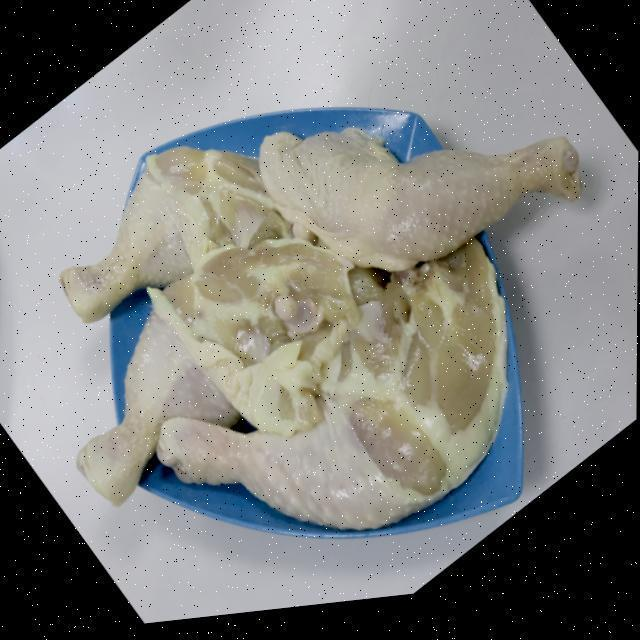quater: (168, 250, 511, 523), (254, 121, 576, 262), (53, 144, 66, 156)
